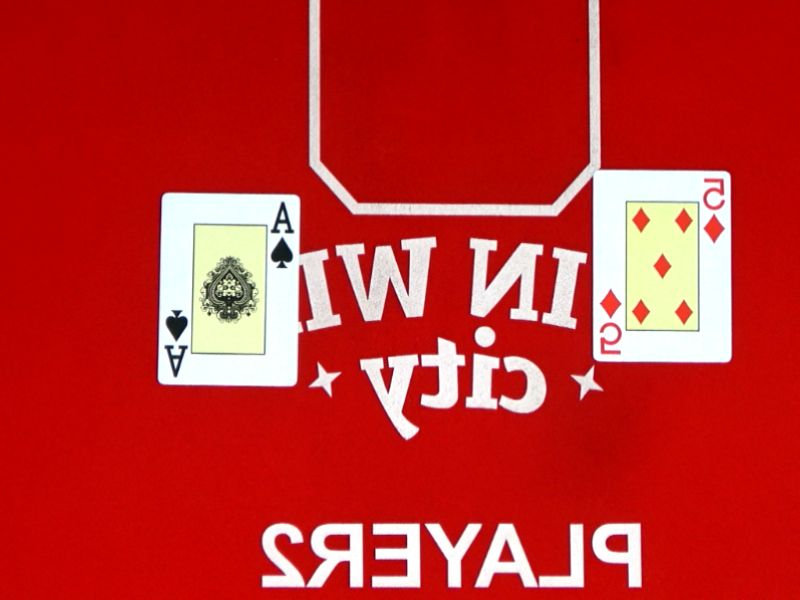5D: (676, 173, 756, 247), (571, 284, 651, 357)
AS: (243, 194, 324, 268), (133, 305, 214, 378)
